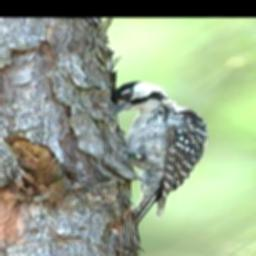Woodpecker: (110, 81, 211, 224)
